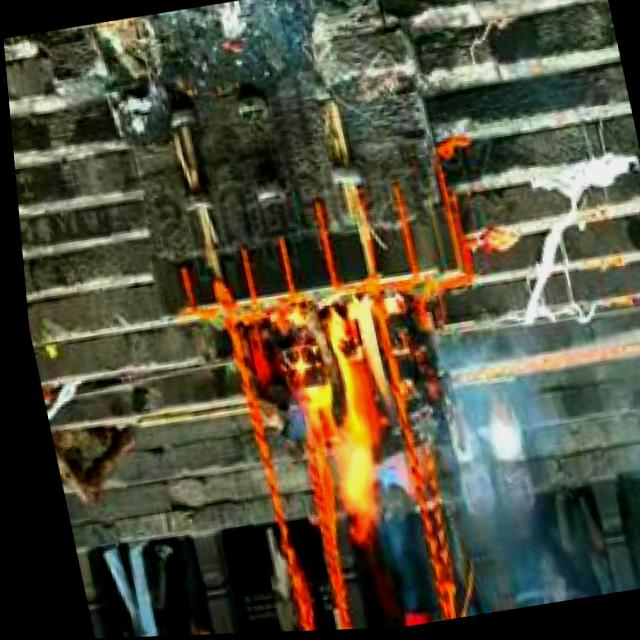Fire: (268, 293, 414, 543)
